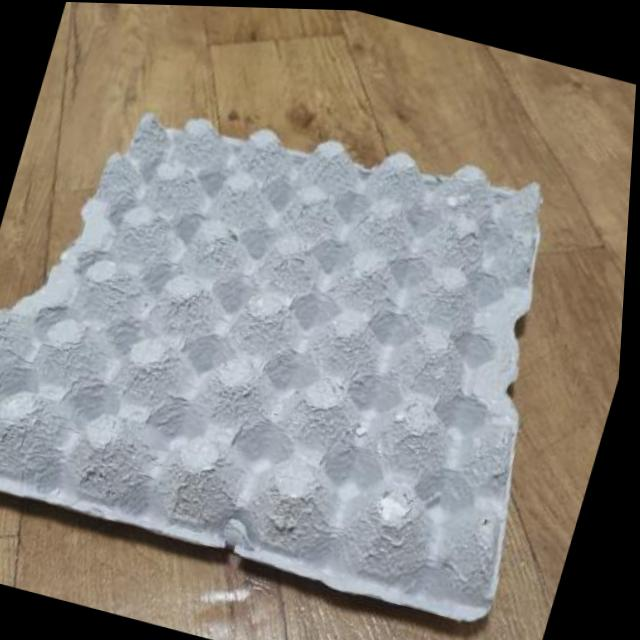box: (0, 23, 639, 640)
